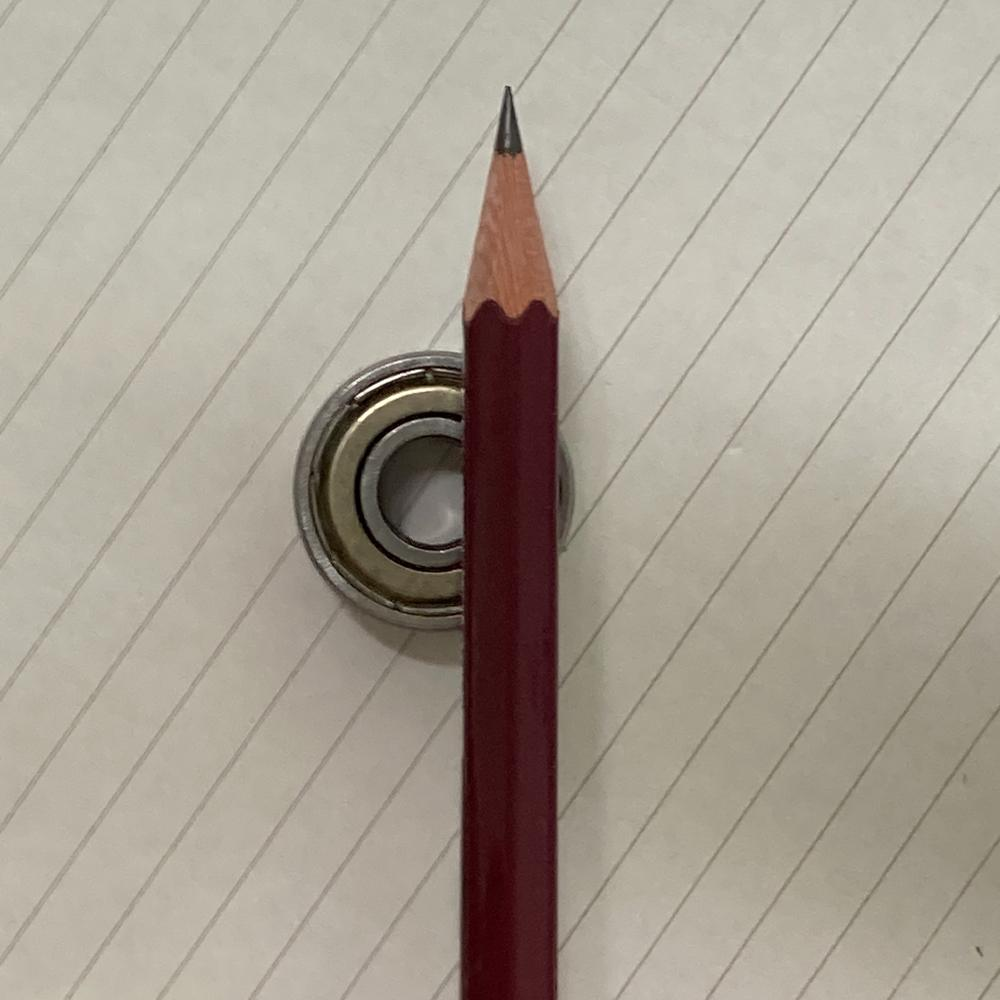ball_bearing: (293, 350, 582, 637)
